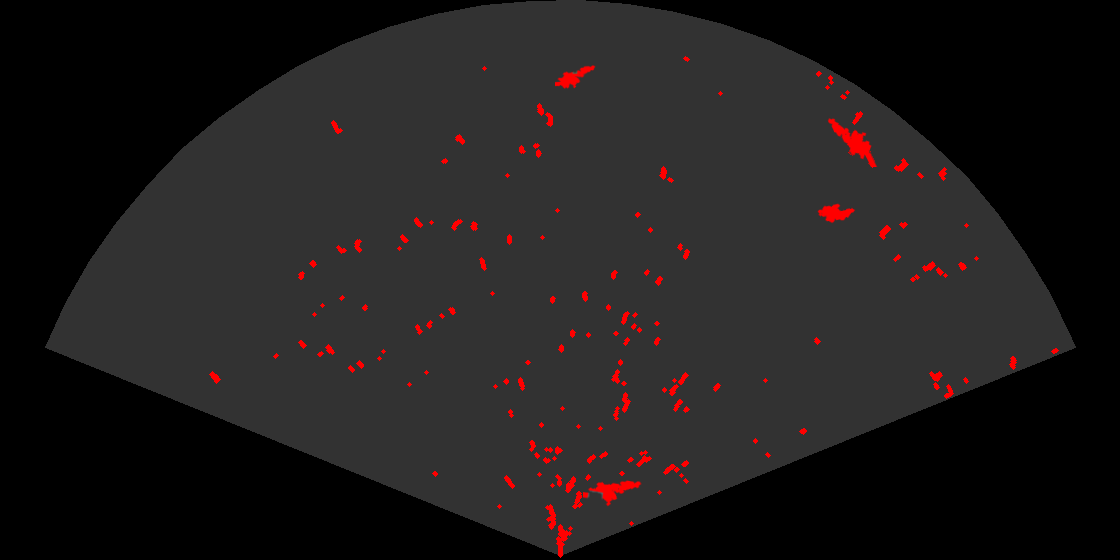AUV: (816, 202, 857, 225)
frogman: (826, 116, 879, 167), (583, 479, 642, 508), (555, 64, 596, 90)
